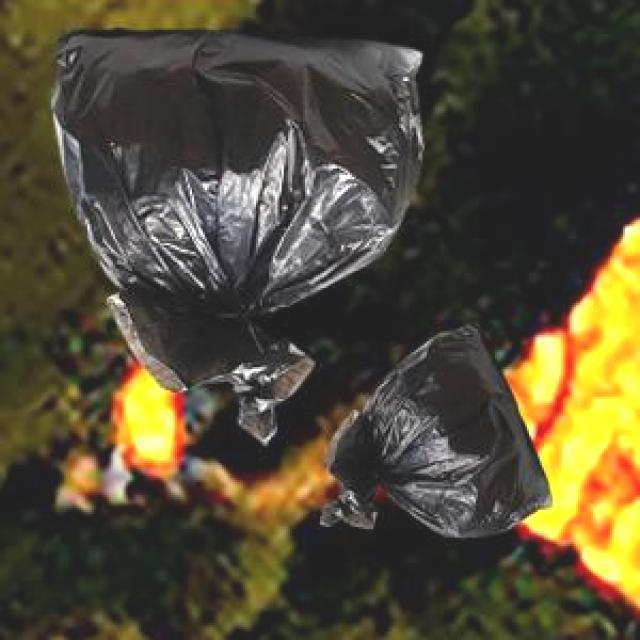Trashbag: (49, 19, 428, 342), (319, 318, 555, 542)
